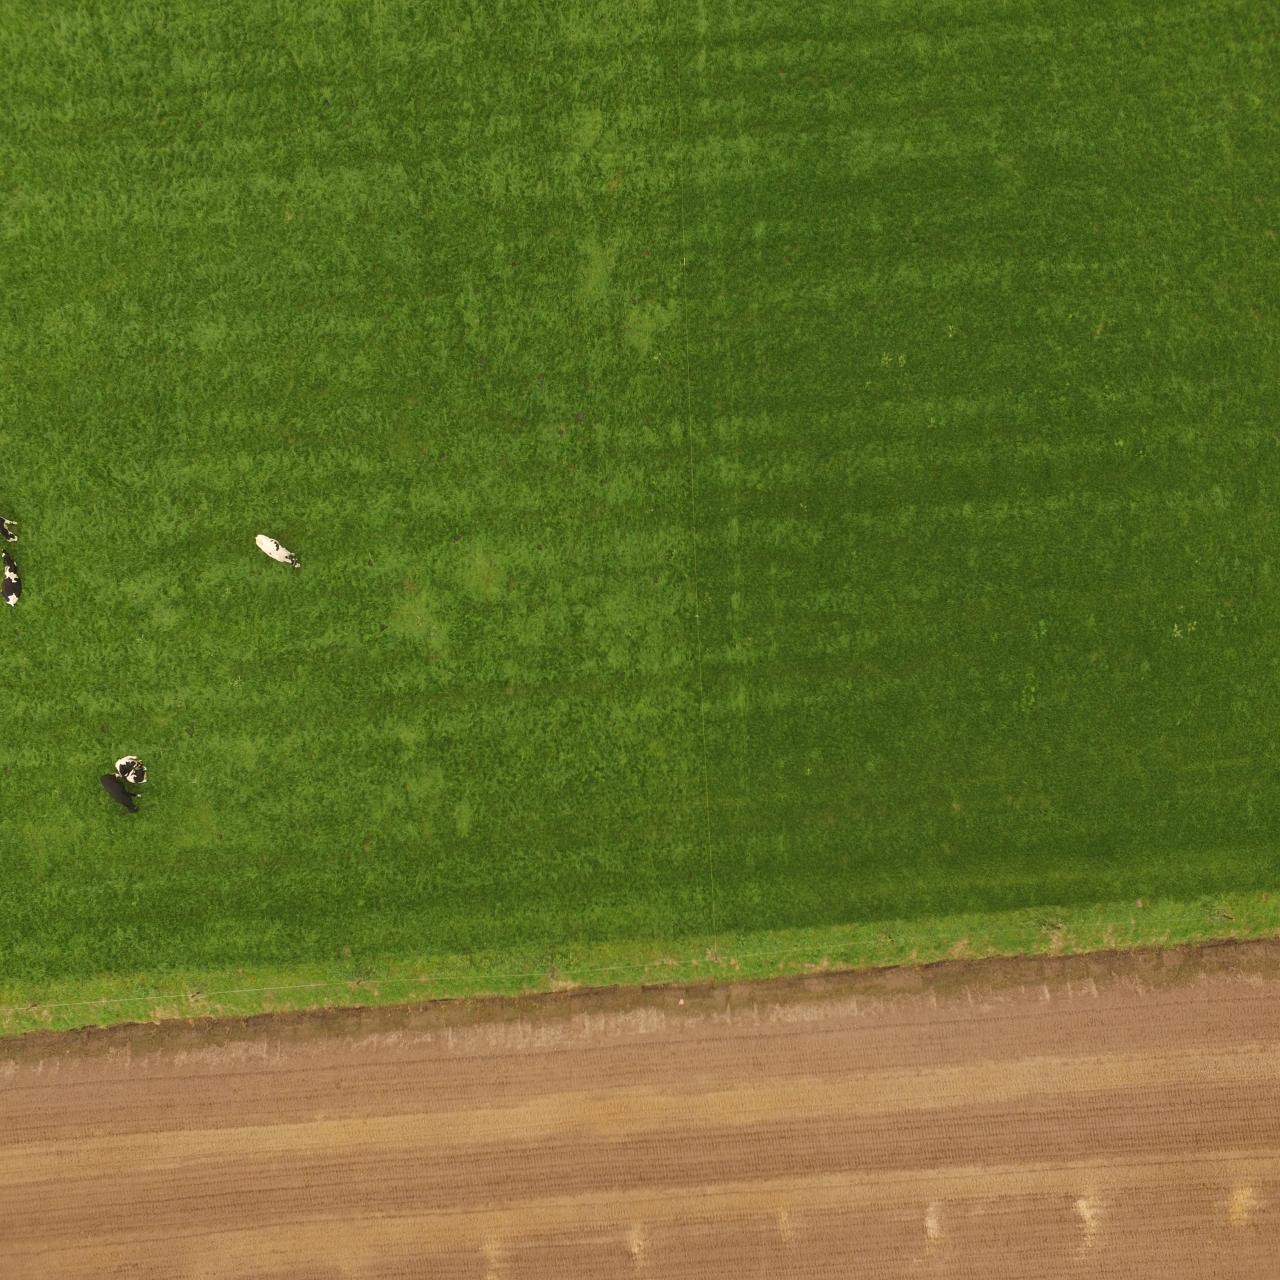cow: (96, 774, 149, 818), (257, 533, 305, 568), (6, 549, 21, 614), (114, 757, 155, 781)
